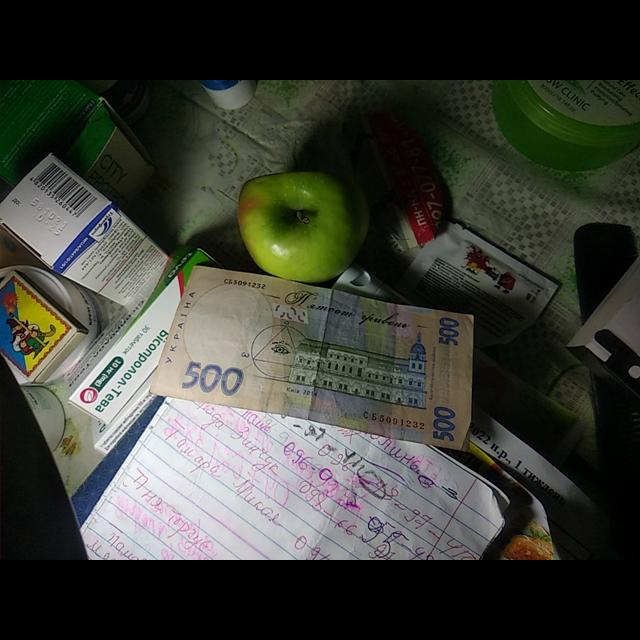500uah: (151, 265, 474, 448)
